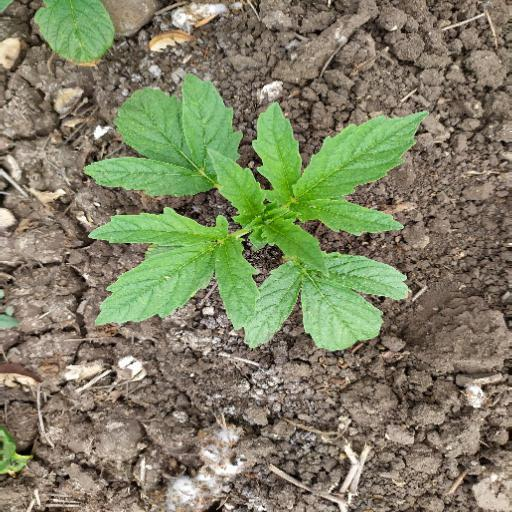crop: (62, 73, 436, 365)
